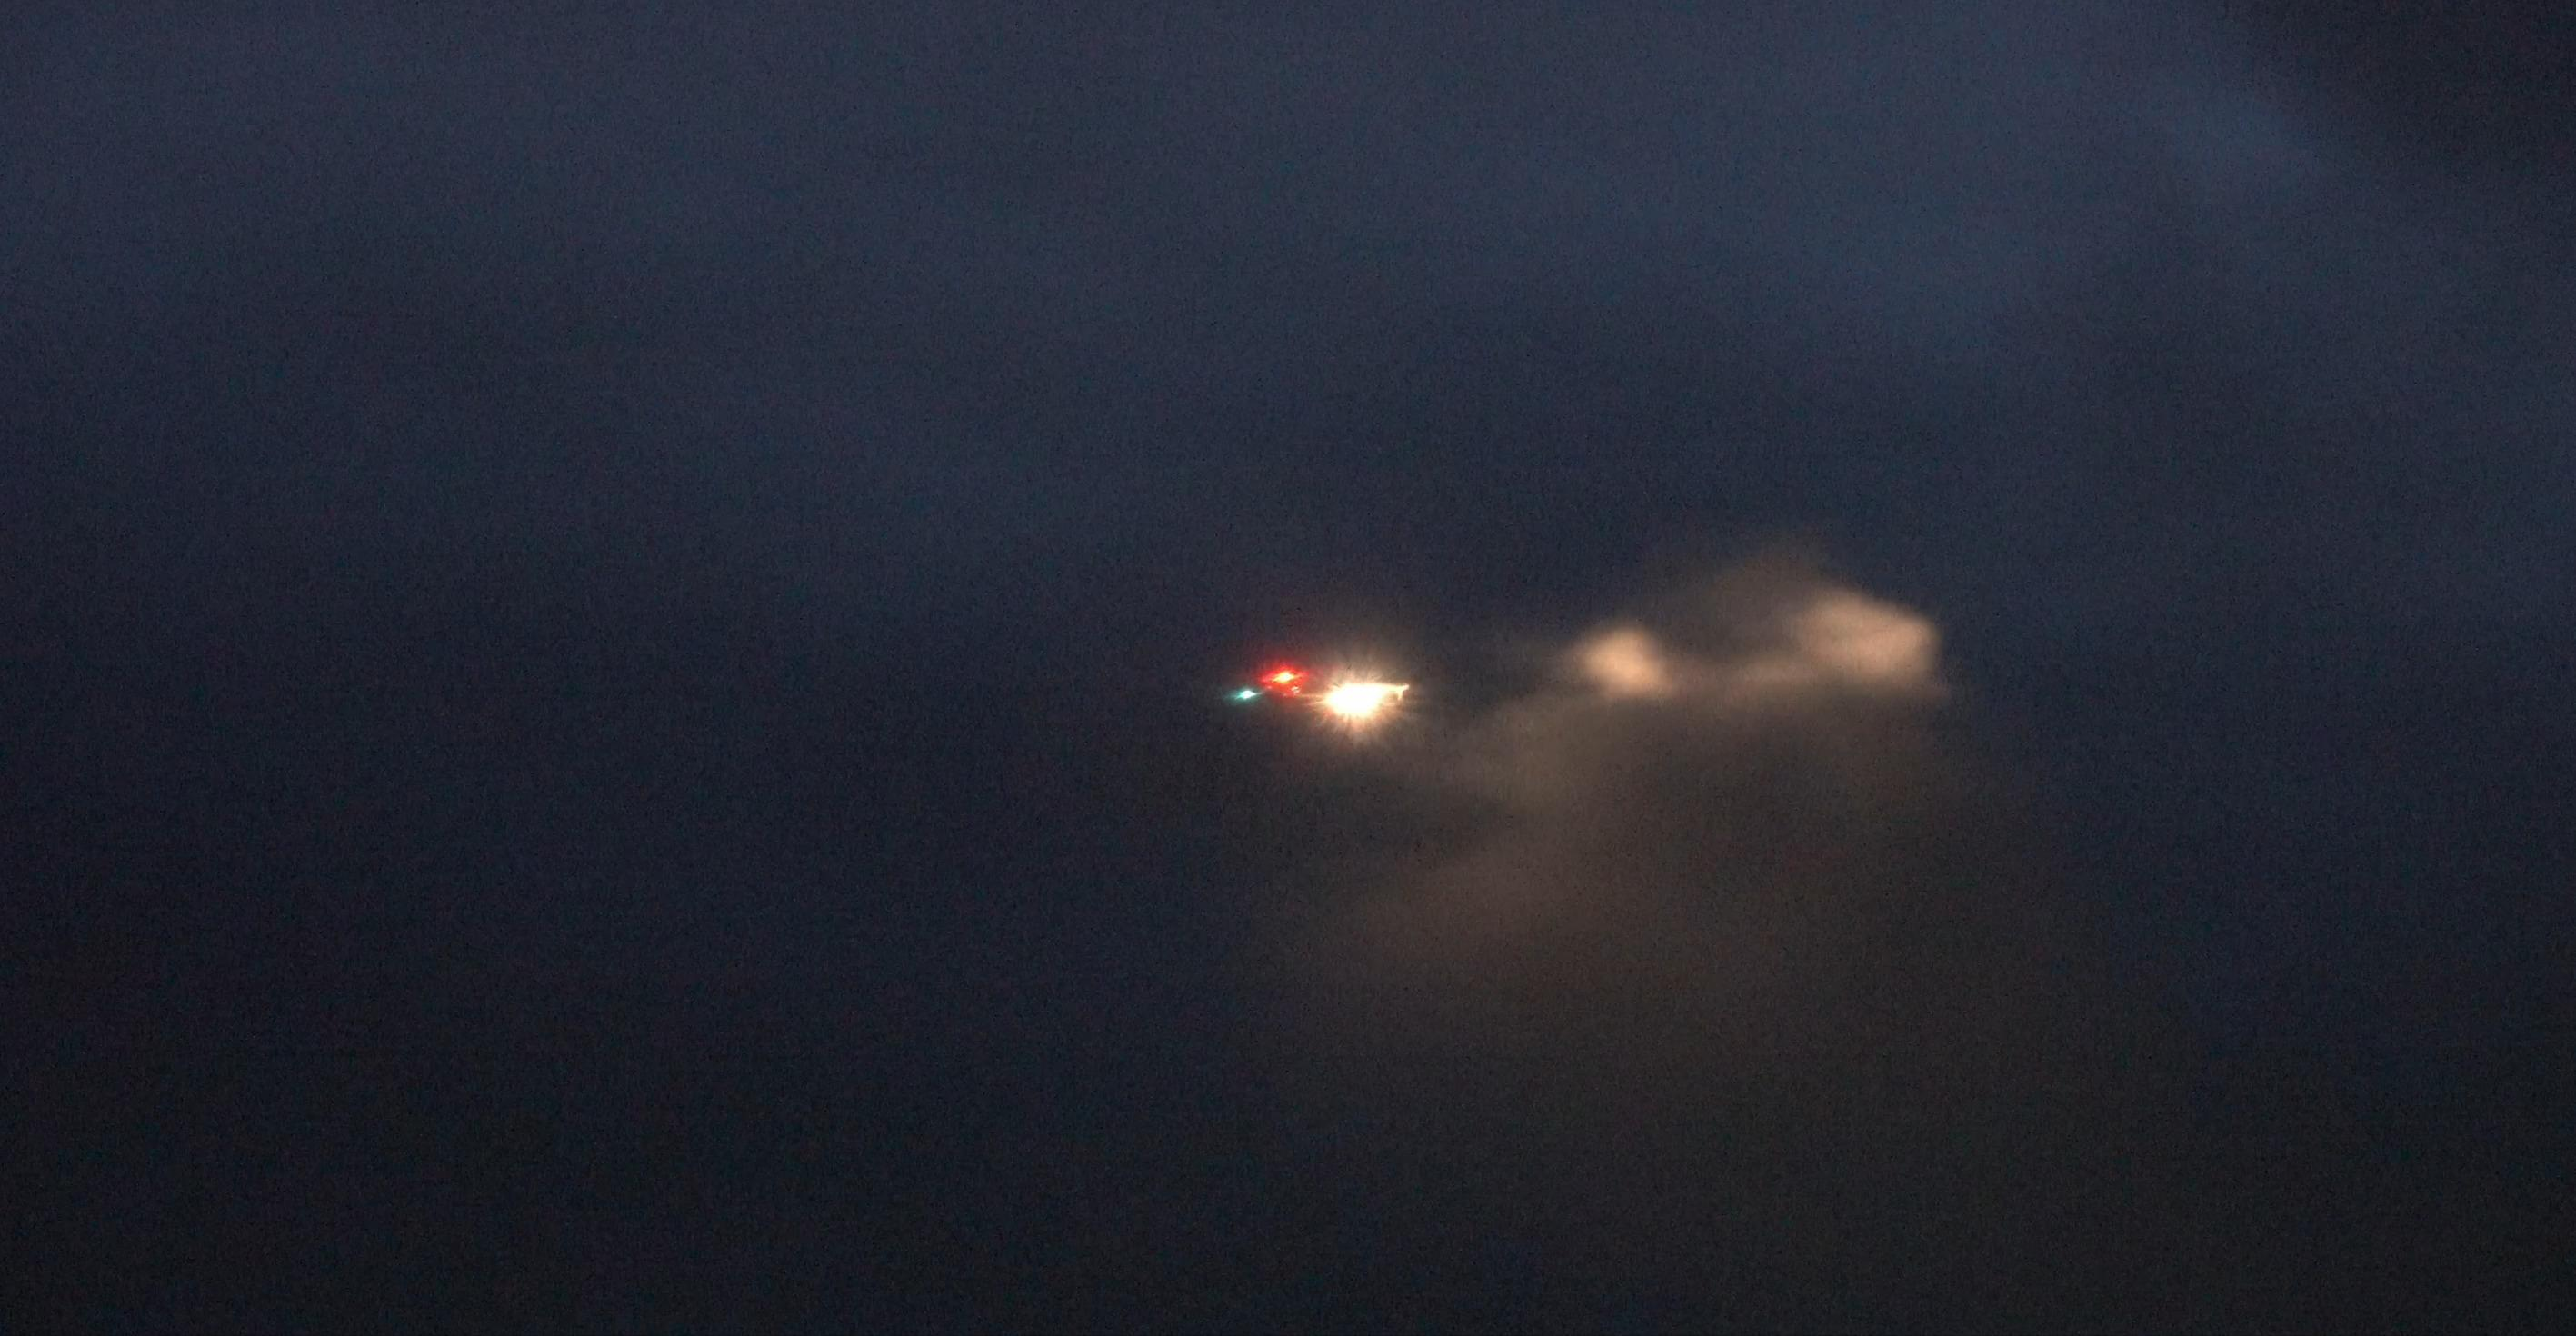Plane: (1128, 605, 1509, 782)
